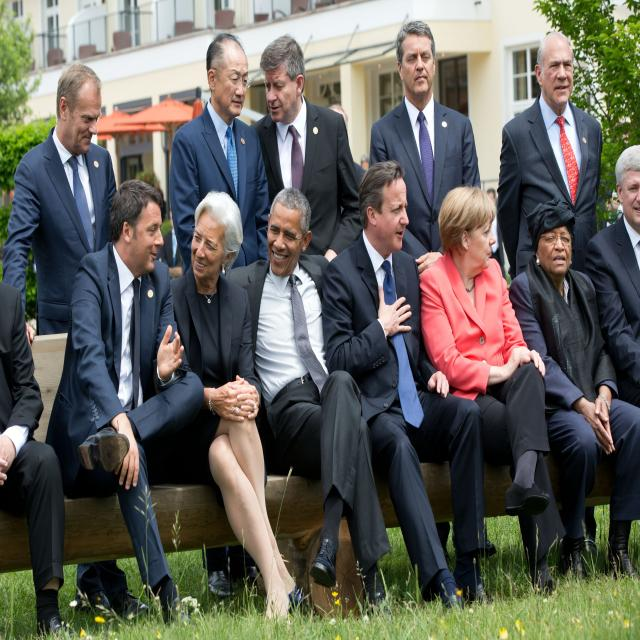body: (0, 61, 151, 623), (319, 158, 496, 616), (222, 186, 394, 621), (367, 20, 497, 570), (45, 178, 204, 624), (416, 182, 566, 610), (169, 189, 308, 626), (508, 195, 640, 580), (0, 278, 78, 640), (248, 34, 364, 264), (499, 31, 603, 272), (170, 35, 271, 271), (584, 143, 640, 399), (320, 97, 361, 156)
